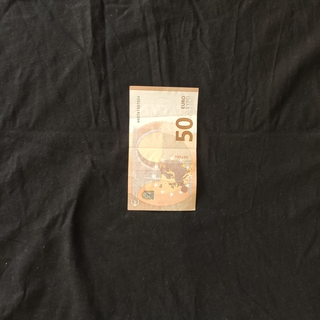50EUROBack: (126, 83, 200, 212)
